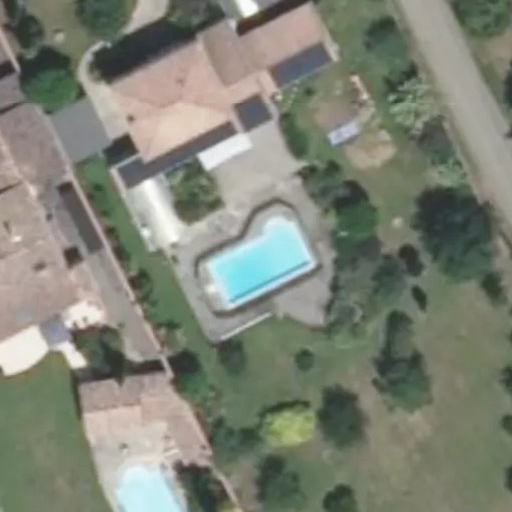pool: (196, 232, 307, 248)
